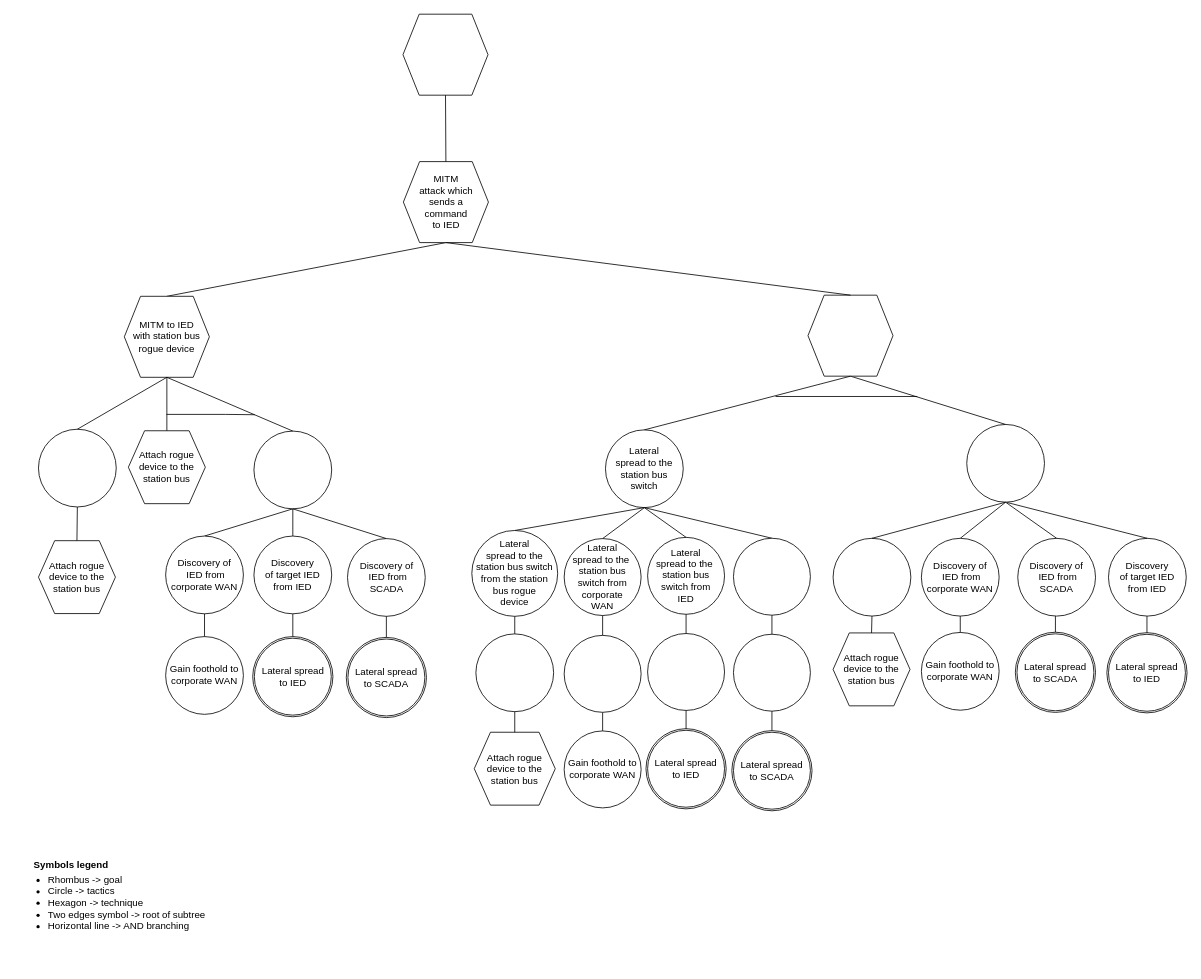
Some shapes in this 1201 by 979 pixel diagram are drawn without their labels. Here are the shapes that lost their labels. From the top down, the centre of each, then its label:
At (x=445, y=54): "Send a command to control element".
At (x=850, y=335): "MITM to IED from station bus switch".
At (x=77, y=467): "Discovery of IED with the station bus rogue device".
At (x=292, y=469): "Discovery of IED's station bus network intarface without rogue device".
At (x=1005, y=463): "Discovery of IED's station bus network intarface".
At (x=771, y=576): "Lateral spread to the station bus switch from SCADA".
At (x=871, y=577): "Discovery of IED with station bus rogue device".
At (x=514, y=672): "Discovery of the station bus switch from the station bus device".
At (x=602, y=673): "Discovery of the station bus switch from corporate WAN".
At (x=686, y=671): "Discovery of the station bus switch from IED".
At (x=771, y=672): "Discovery of the station bus switch from SCADA".
